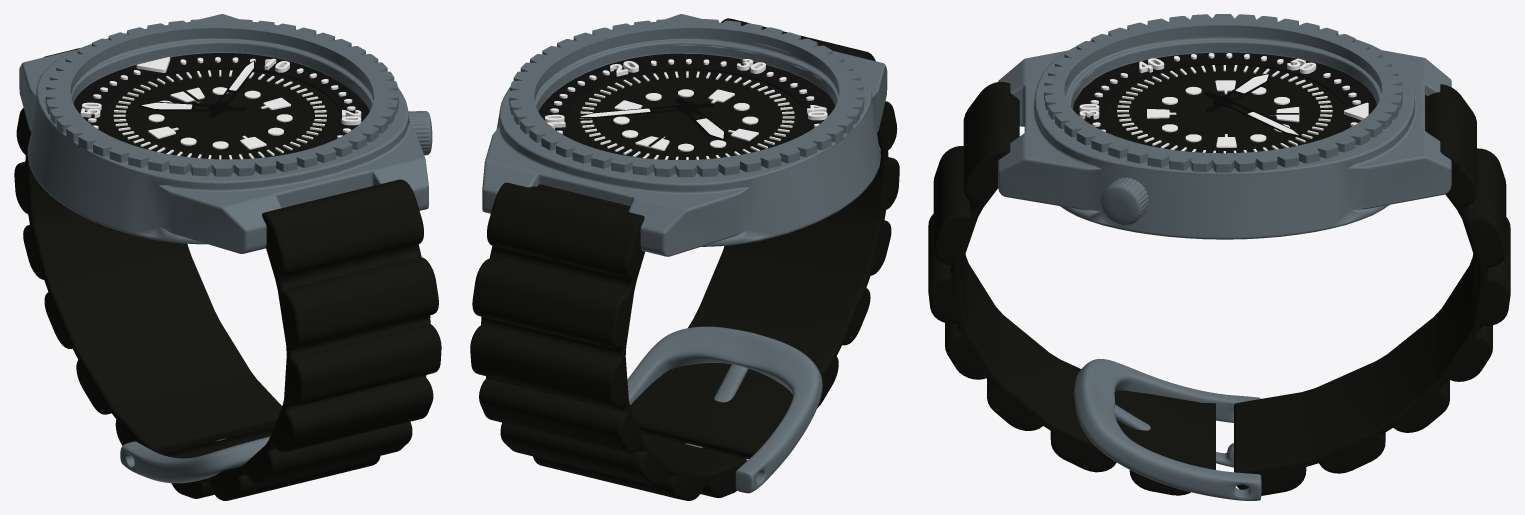
Rendered from watch5.fbx.
3 views of the same model, side by side, from view 1: azimuth 30°, elevation 25°; view 2: azimuth 150°, elevation 25°; view 3: azimuth 270°, elevation 25° (orthographic).
Visible parts, largest first — view 1: Line038, Circle372, Line037, Ellipse004, Tube012, metal hold010, hours022, Cylinder033, Circle363, Circle.040, Circle.039; view 2: Line037, Circle372, Line038, Ellipse004, metal hold010, Tube012, hours022, Circle.040, metal pin010, Circle363, Circle.039; view 3: Circle372, Line037, Line038, Ellipse004, metal hold010, Tube012, hours022, Cylinder033, metal pin010, Circle.040, Circle363.
Part boxes in pixels (bbox=[...]): Line038: bbox=[162, 179, 441, 500]; Circle372: bbox=[19, 14, 428, 253]; Line037: bbox=[14, 48, 282, 454]; Ellipse004: bbox=[45, 19, 398, 176]; Tube012: bbox=[73, 53, 369, 144]; metal hold010: bbox=[120, 405, 282, 483]; hours022: bbox=[113, 70, 326, 159]; Cylinder033: bbox=[408, 111, 432, 155]; Circle363: bbox=[88, 57, 355, 138]; Circle.040: bbox=[209, 60, 255, 117]; Circle.039: bbox=[138, 102, 245, 112]; Line037: bbox=[470, 182, 747, 500]; Circle372: bbox=[482, 14, 887, 256]; Line038: bbox=[630, 18, 899, 459]; Ellipse004: bbox=[509, 18, 864, 177]; metal hold010: bbox=[627, 326, 822, 493]; Tube012: bbox=[538, 53, 835, 142]; hours022: bbox=[580, 71, 794, 159]; Circle.040: bbox=[577, 102, 713, 118]; metal pin010: bbox=[685, 364, 748, 447]; Circle363: bbox=[550, 59, 819, 134]; Circle.039: bbox=[675, 98, 725, 140]; Circle372: bbox=[998, 34, 1451, 239]; Line037: bbox=[1234, 84, 1510, 495]; Line038: bbox=[928, 81, 1215, 495]; Ellipse004: bbox=[1044, 14, 1402, 172]; metal hold010: bbox=[1073, 359, 1261, 500]; Tube012: bbox=[1072, 52, 1376, 136]; hours022: bbox=[1117, 65, 1332, 153]; Cylinder033: bbox=[1101, 177, 1148, 225]; metal pin010: bbox=[1114, 404, 1233, 467]; Circle.040: bbox=[1204, 91, 1301, 136]; Circle363: bbox=[1090, 53, 1360, 131].
Size of the model in its own units: 165 by 179 by 252.
